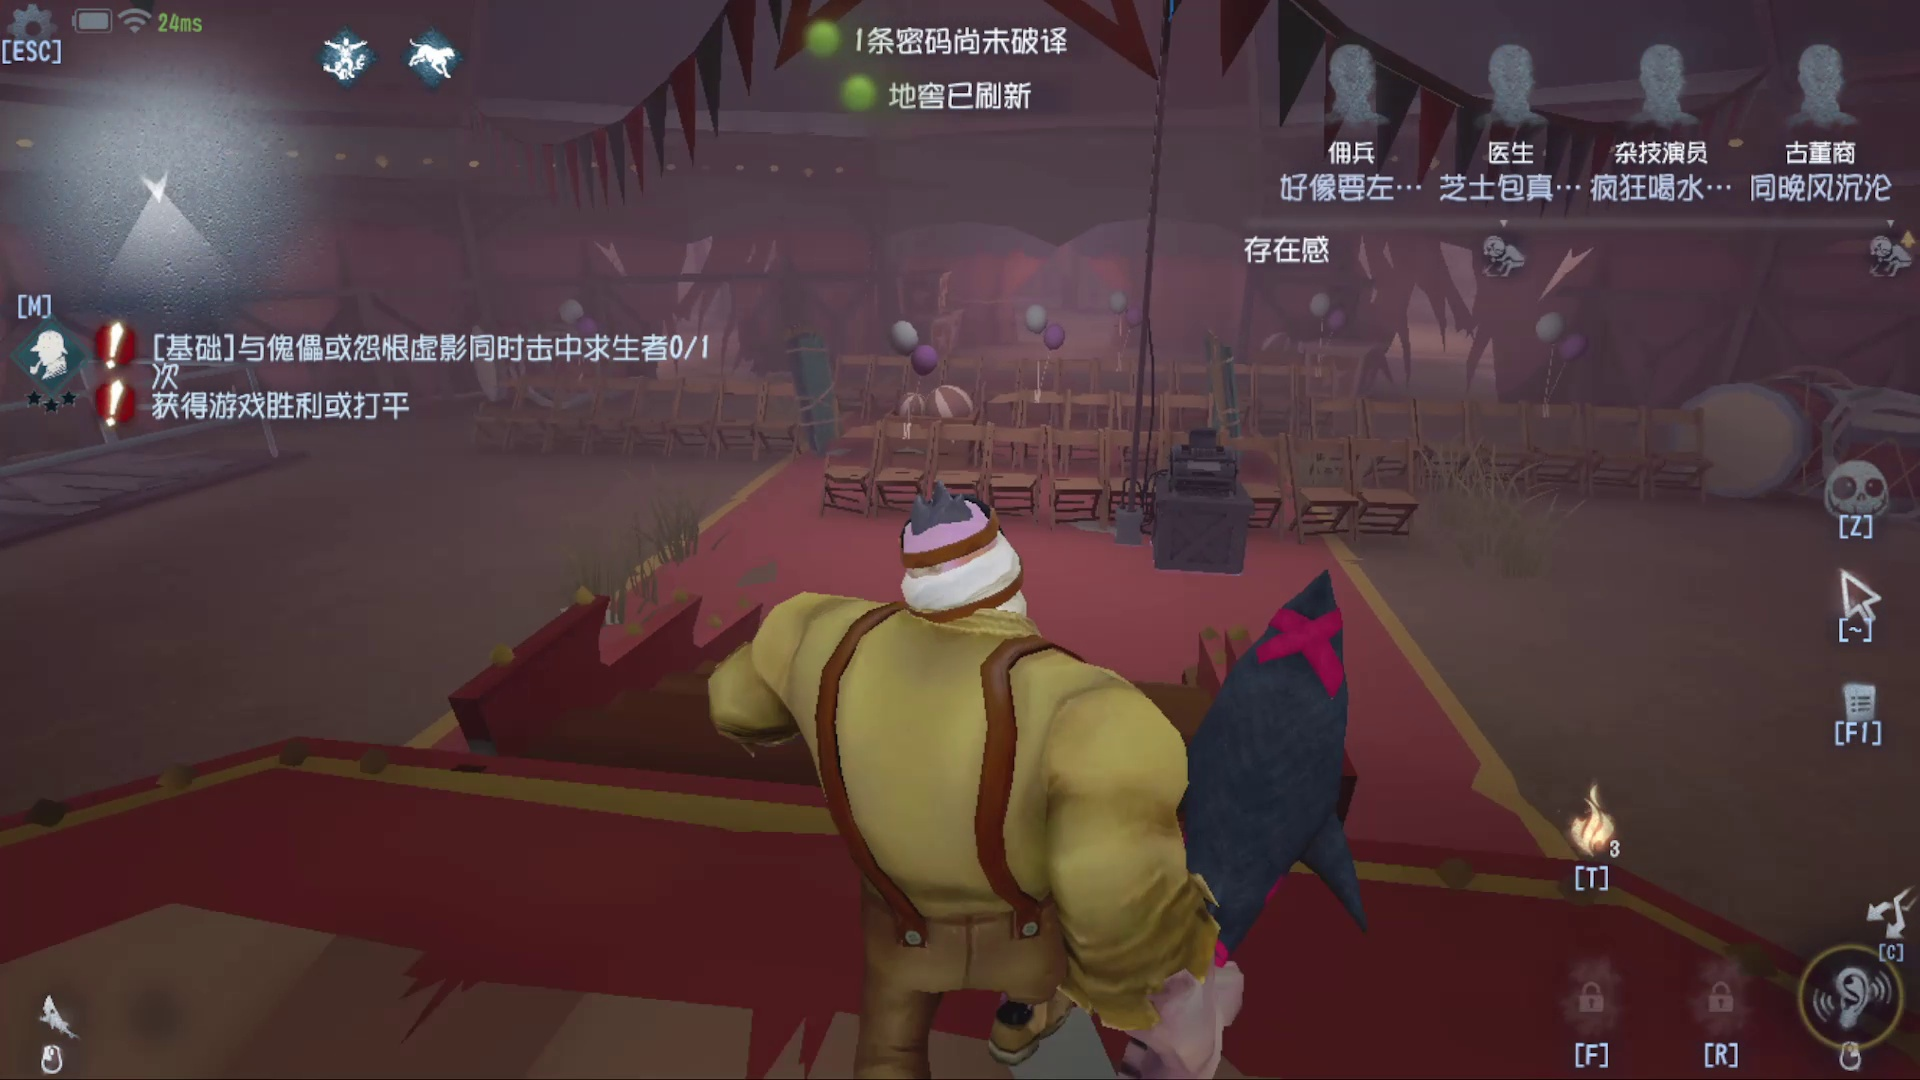密码机: (1127, 13, 1262, 578)
木板: (767, 327, 858, 471), (1196, 324, 1275, 448)
